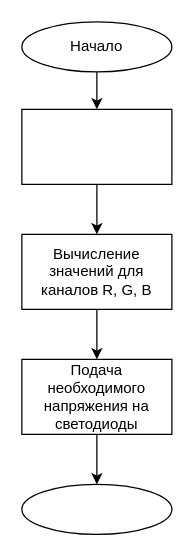
The diagram is 194 pixels wide and 556 high, and some of its shapes have lost their labels. Each missing label, with the centre of its shape:
Конец: the point at 96,508
Чтение текущего положения энкодера: the point at 96,146
